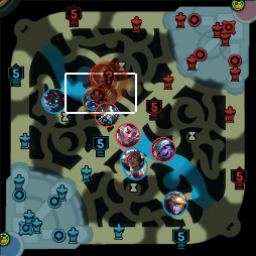ezreal: (163, 191, 187, 214)
fiddlesticks: (92, 83, 118, 108)
fizz: (83, 87, 108, 113)
leesin: (124, 157, 148, 179)
lucian: (89, 64, 115, 87)
maokai: (41, 88, 67, 113)
rakan: (115, 122, 141, 146)
sett: (121, 148, 145, 172)
tristana: (150, 137, 176, 161)
zilean: (93, 103, 119, 127)
